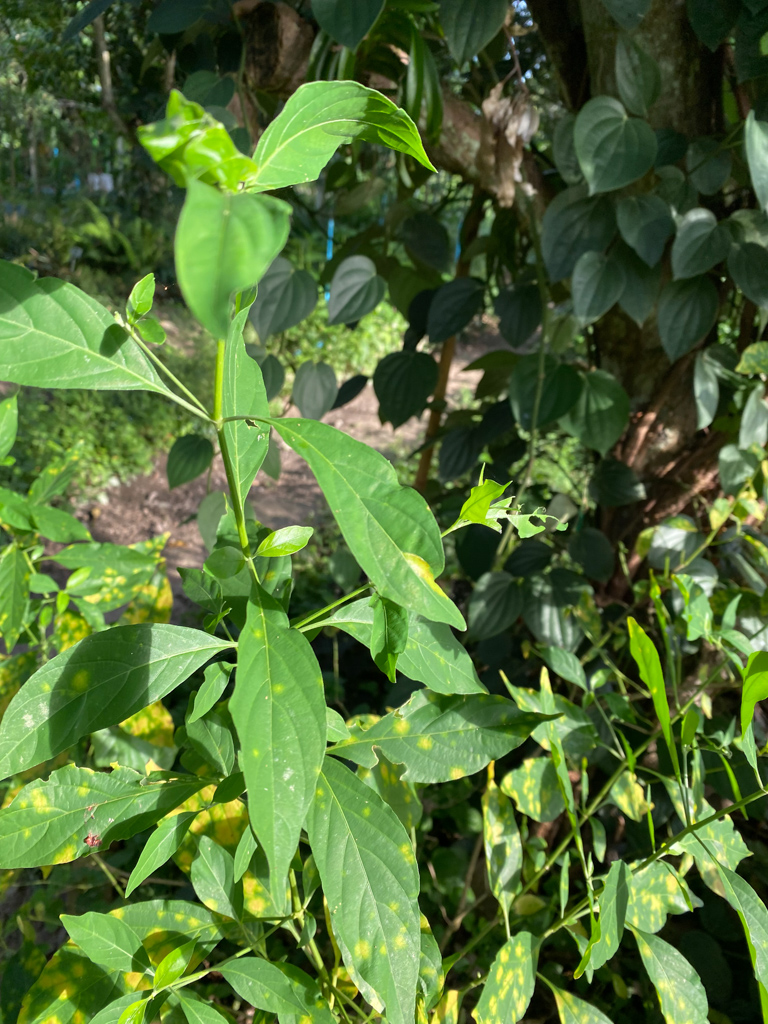Pepper yellow leaf: (170, 778, 251, 879), (385, 713, 469, 784), (15, 783, 84, 865), (476, 759, 520, 879), (475, 938, 535, 1023), (18, 956, 94, 1021), (636, 862, 695, 935), (354, 896, 410, 970), (399, 544, 460, 610), (498, 756, 558, 820), (125, 698, 184, 751), (123, 572, 172, 623), (82, 564, 126, 611), (128, 922, 176, 958), (242, 871, 275, 920), (53, 611, 89, 652)
